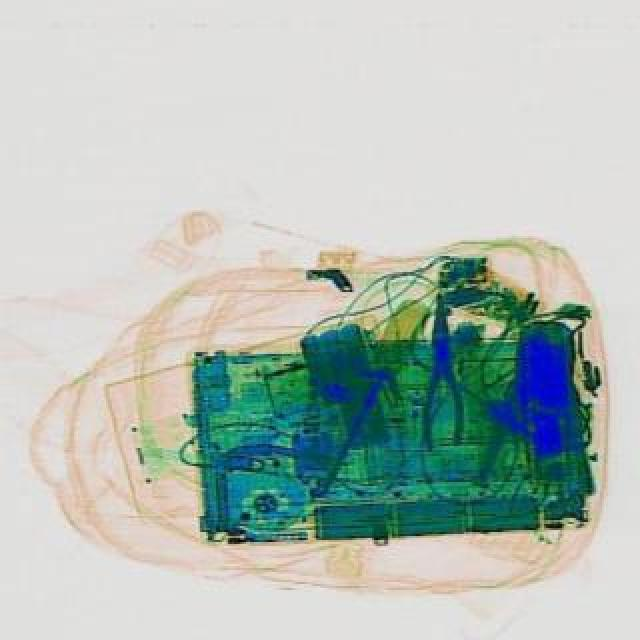wrench: (414, 290, 464, 450)
